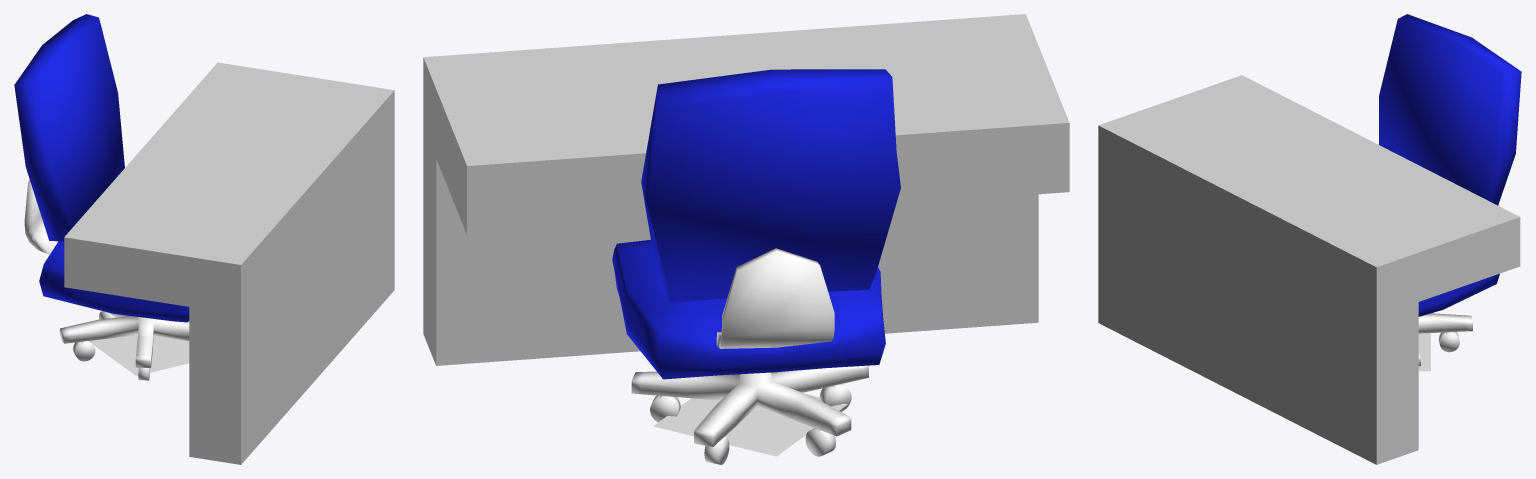
Rendered from PLANOS 3D.gltf.
3 views of the same model, side by side, from view 1: azimuth 30°, elevation 25°; view 2: azimuth 150°, elevation 25°; view 3: azimuth 270°, elevation 25° (orthographic). The views are drawn at different scales.
Parts seen in each view (by area): view 1: Cube.020, Cube.018, Cube.019, Cube.017, 158; view 2: Cube.020, Cube.018, Cube.019, Cube.017, 158; view 3: Cube.020, Cube.018, Cube.017, Cube.019, 158.
Part boxes in pixels (x1,y1,x2,y2): Cube.020: [64, 62, 394, 464]; Cube.018: [14, 14, 124, 241]; Cube.019: [24, 180, 189, 322]; Cube.017: [59, 311, 189, 380]; 158: [90, 335, 189, 375]; Cube.020: [423, 14, 1069, 365]; Cube.018: [641, 69, 900, 302]; Cube.019: [612, 239, 885, 379]; Cube.017: [631, 365, 868, 464]; 158: [653, 394, 847, 456]; Cube.020: [1098, 75, 1520, 464]; Cube.018: [1379, 14, 1521, 205]; Cube.017: [1418, 313, 1472, 366]; Cube.019: [1418, 204, 1499, 316]; 158: [1418, 333, 1430, 371].
Bounding box in the file's own units: 0.9756 × 0.6889 × 0.9078.
